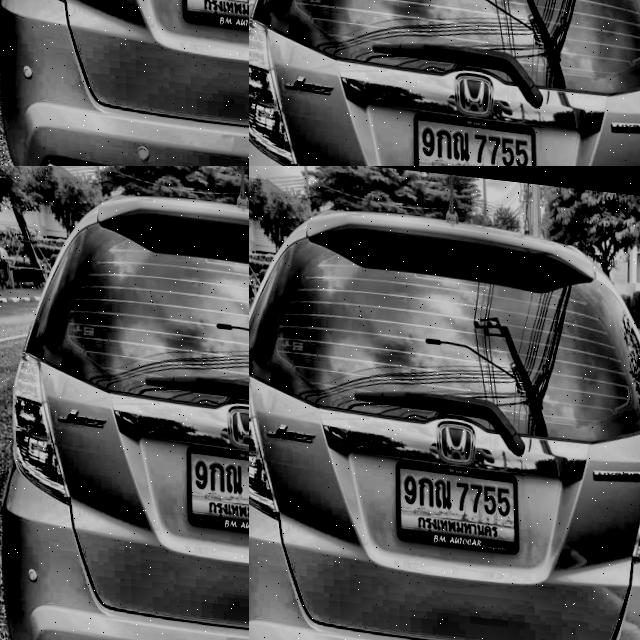license-plate: (0, 225, 249, 575), (249, 0, 640, 166), (391, 448, 517, 544)
